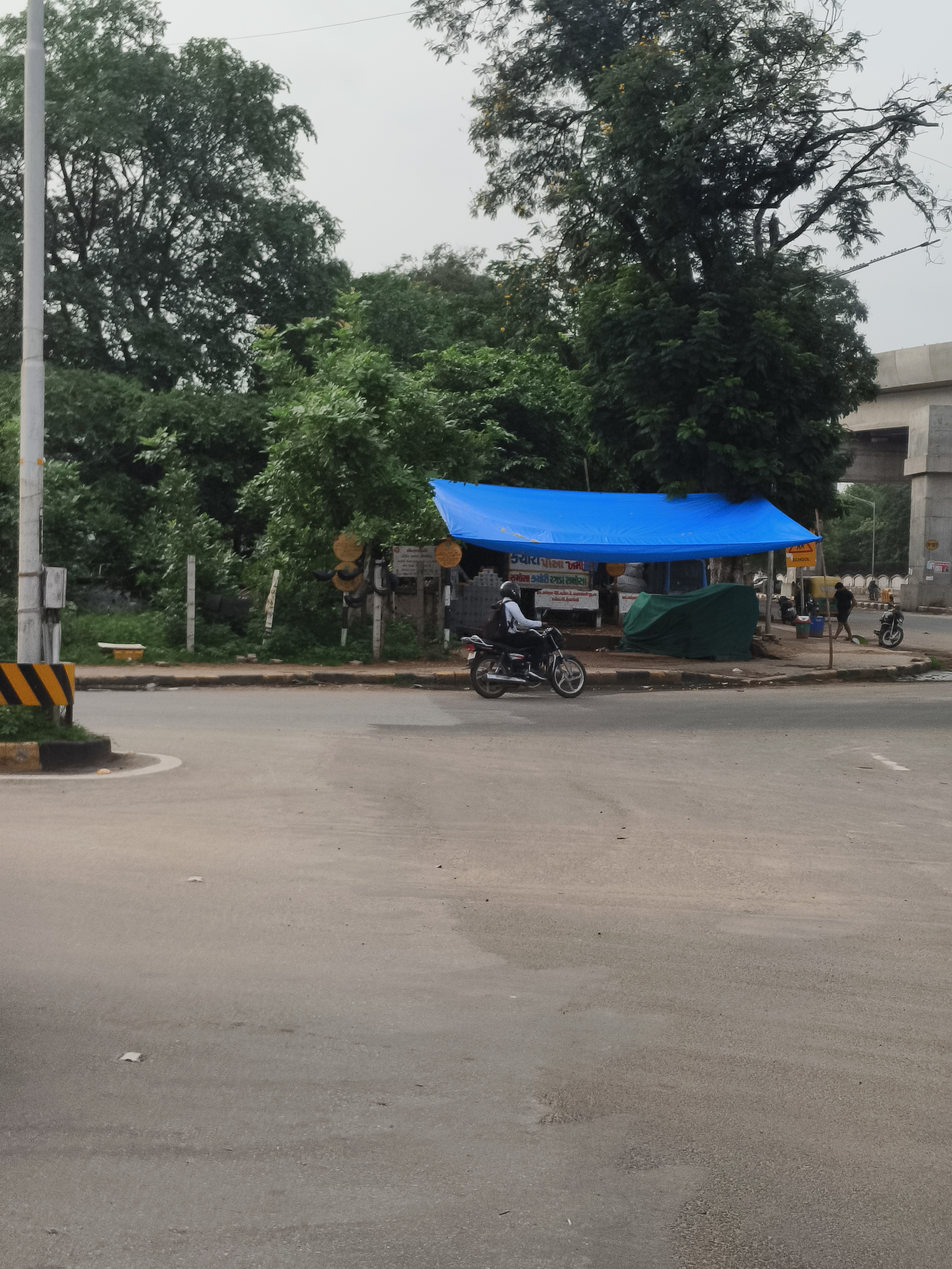BikeWithRider: (456, 572, 591, 703)
Helmet: (494, 579, 526, 607)
